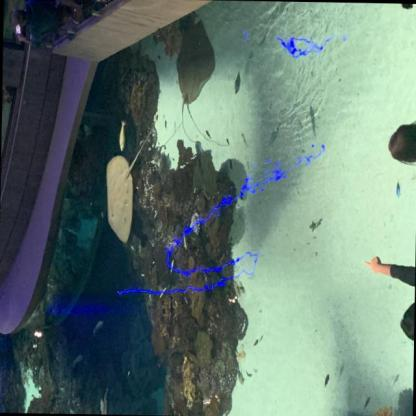fish: (386, 117, 415, 168), (296, 118, 306, 154), (118, 119, 128, 153), (90, 319, 104, 341), (233, 67, 242, 96), (71, 352, 84, 370), (309, 217, 323, 233), (395, 178, 402, 200), (237, 367, 245, 384), (392, 372, 401, 387), (323, 372, 330, 388), (363, 396, 371, 410), (339, 362, 345, 377), (205, 129, 212, 139), (229, 158, 233, 172), (245, 369, 252, 377), (164, 119, 167, 130), (254, 339, 258, 347), (226, 138, 230, 146), (171, 156, 174, 161)
stingray: (176, 18, 216, 106), (104, 154, 134, 244)
